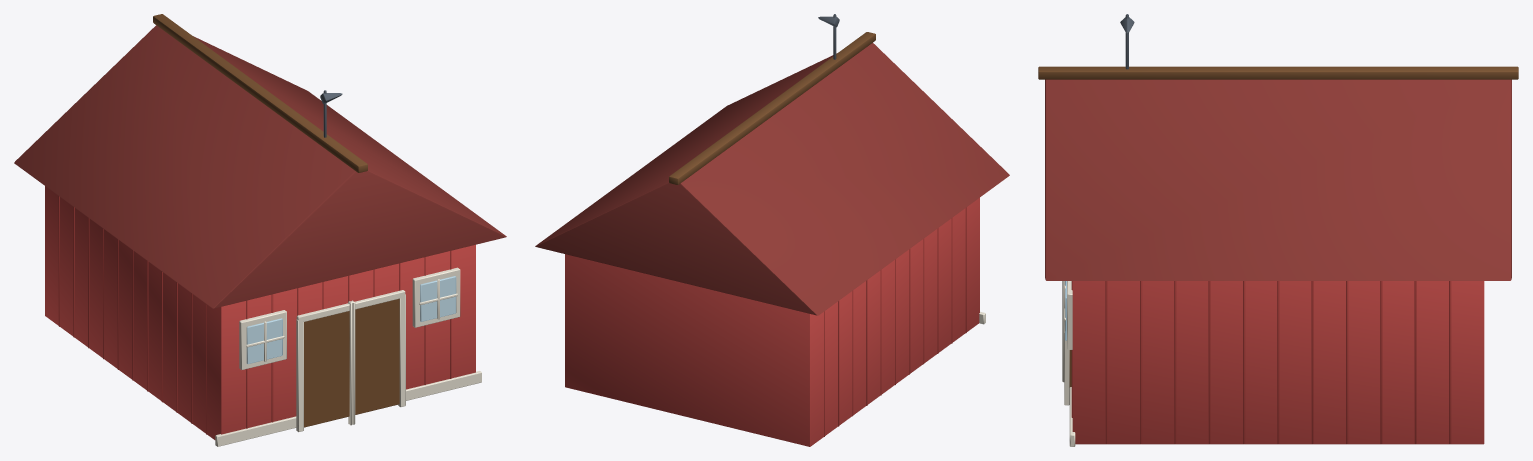
The model's file is barn.glb.
The picture shows the model from 3 angles, left to right: view 1: azimuth 30°, elevation 25°; view 2: azimuth 150°, elevation 25°; view 3: azimuth 270°, elevation 25°; orthographic projection. The views are drawn at different scales.
Parts seen in each view (by area): view 1: BarnRoof, BarnBody, BarnDetail; view 2: BarnRoof, BarnBody; view 3: BarnRoof, BarnBody, BarnDetail.
Part boxes in pixels (bbox=[...]): BarnRoof: bbox=[14, 14, 506, 308]; BarnBody: bbox=[45, 186, 475, 439]; BarnDetail: bbox=[215, 267, 481, 446]; BarnRoof: bbox=[535, 14, 1009, 315]; BarnBody: bbox=[565, 198, 979, 446]; BarnRoof: bbox=[1038, 14, 1518, 280]; BarnBody: bbox=[1071, 281, 1484, 444]; BarnDetail: bbox=[1062, 281, 1075, 446].
Size of the model in its own units: 5.77 by 5.9 by 7.
